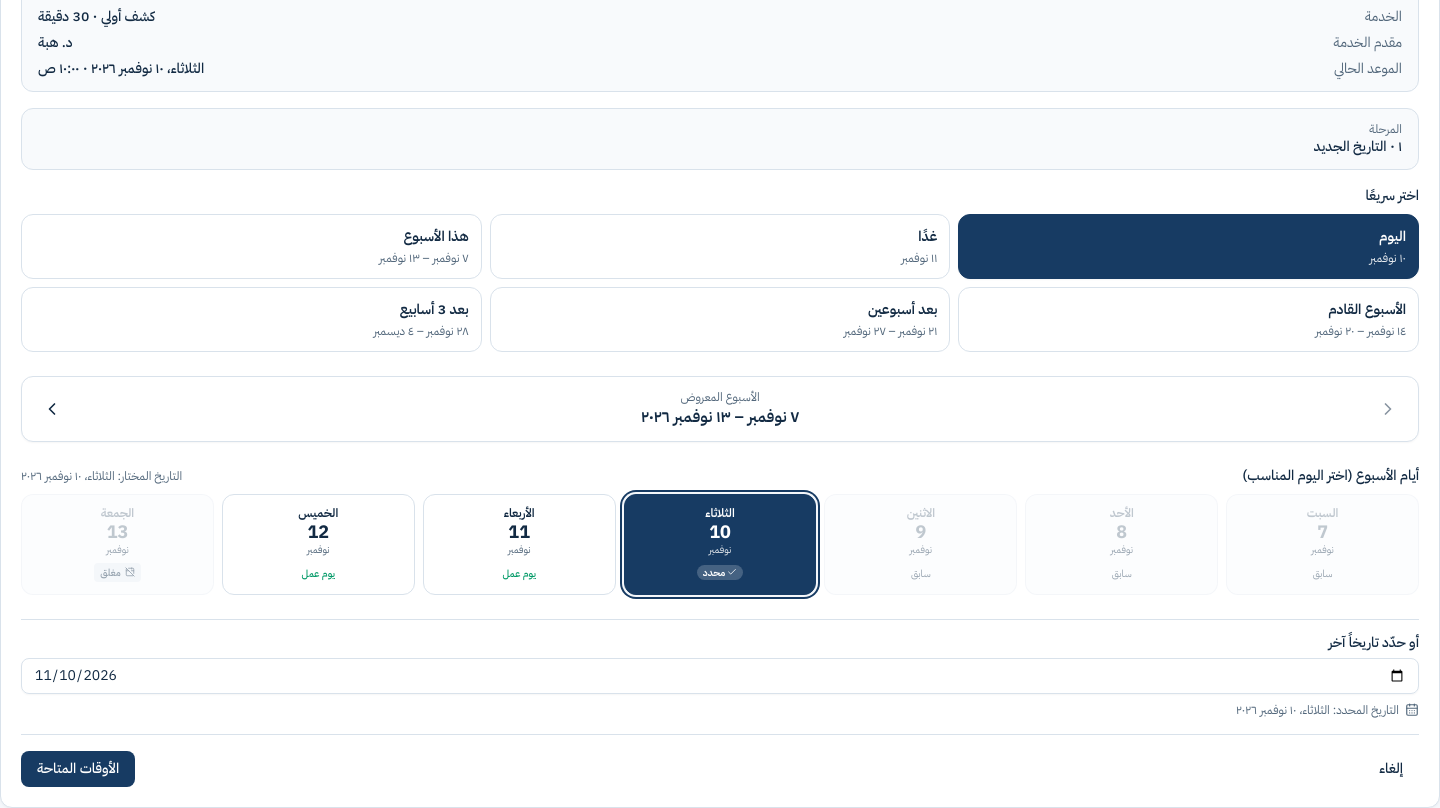
Test: ReschedulePanel mounted integration tests (ISS-005) › 10. ensures suggestions and selection strictly respect preserved provider when earliest slot is with another provider
(page scrolled)
What coordinates should you click on to do the following:
click the button "الأوقات المتاحة"
I would click on:
 (78, 769)
Its box is [21, 751, 135, 787].
(page scrolled)
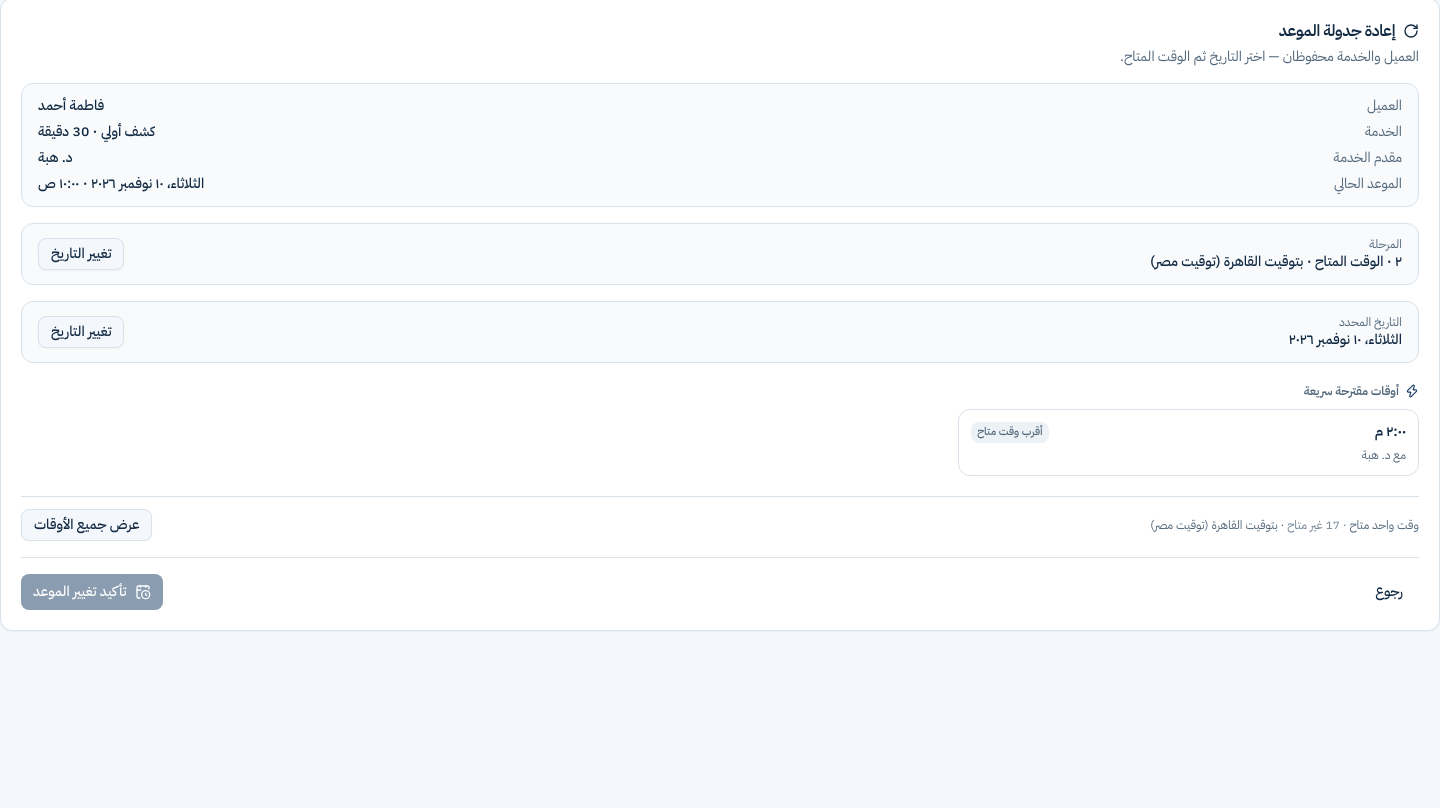
Expected: the text "د. هبة" is shown, [38, 148, 73, 168]
Now the text "٢:٠٠ م" is shown, box [1375, 422, 1406, 442]
